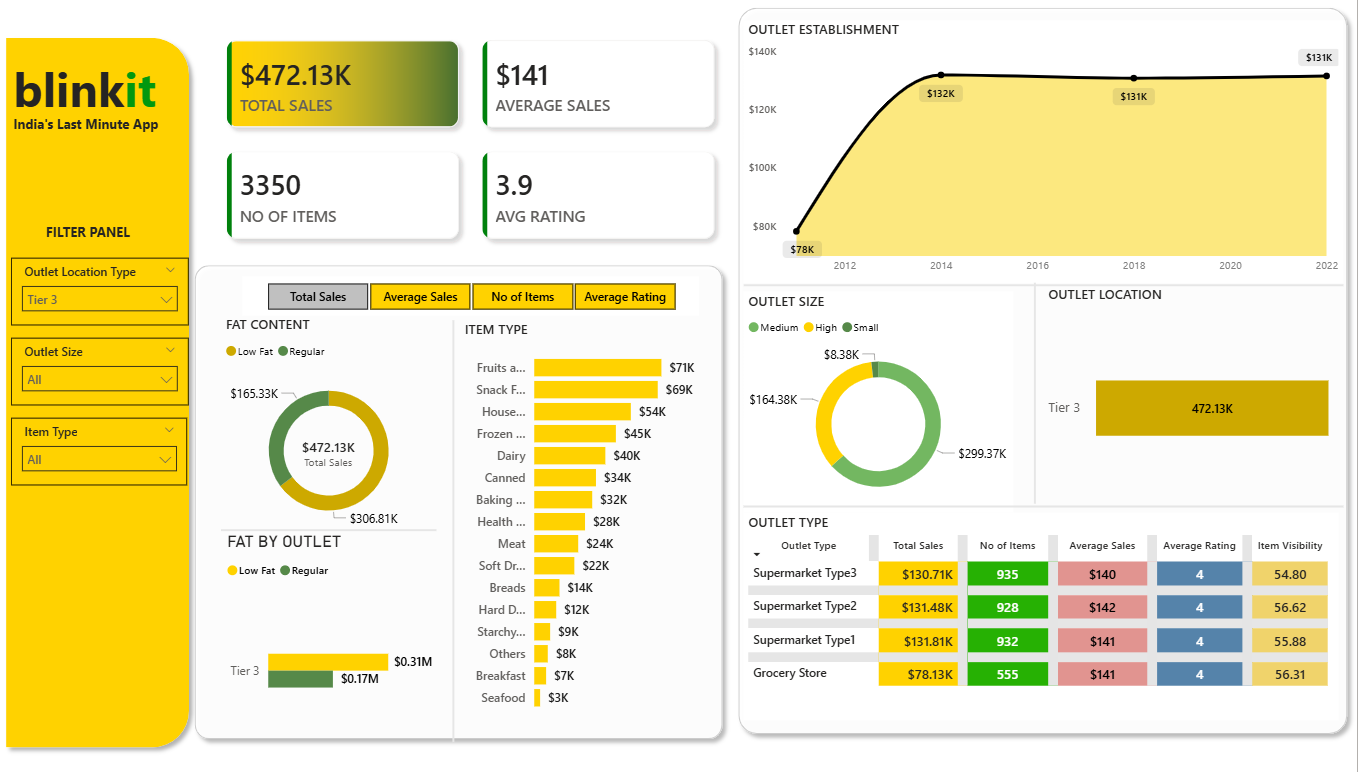

Layout of this report page (visuals, bound fields, positions):
{"tool":"powerbi","page":{"name":"Page 1","canvas":[1400,800],"ordinal":0},"visuals":[{"type":"shape","box":[16.5,30,204.1,739.9],"z":0},{"type":"textbox","box":[28.5,54,177.1,78],"z":1000},{"type":"textbox","box":[28.5,112.6,180.1,39],"z":2000},{"type":"cardVisual","fields":{"Data":["BlinkIT Grocery Data.Total Sales","BlinkIT Grocery Data.Average Sales","BlinkIT Grocery Data.No of Items","BlinkIT Grocery Data.Average Rating"]},"box":[221.3,12.7,554.5,260.7],"z":3000},{"type":"shape","box":[208.5,262.2,554.9,500],"z":4000},{"type":"donutChart","title":"FAT CONTENT","fields":{"Y":["BlinkIT Grocery Data.Total Sales"],"Category":["BlinkIT Grocery Data.Item Fat Content"]},"box":[243.9,322,219.5,230.5],"z":5000},{"type":"slicer","fields":{"Values":["Metrics.Metrics"]},"box":[265.9,281.7,464.6,40.2],"z":6000},{"type":"cardVisual","fields":{"Data":["BlinkIT Grocery Data.Total Sales"]},"box":[296.3,425.6,114.6,72],"z":7000},{"type":"clusteredBarChart","title":"FAT BY OUTLET","fields":{"Y":["BlinkIT Grocery Data.Total Sales"],"Category":["BlinkIT Grocery Data.Outlet Location Type"],"Series":["BlinkIT Grocery Data.Item Fat Content"]},"box":[245.5,541.8,218.8,228.9],"z":8000},{"type":"FlowVisual_C29F1DCC_81F5_4973_94AD_0517D44CC06A","box":[786,30,555,243],"z":9000},{"type":"shape","box":[243.9,523.2,219.5,35.4],"z":10000},{"type":"shape","box":[463.4,326.8,35.4,429.3],"z":11000},{"type":"barChart","title":"ITEM TYPE","fields":{"Y":["BlinkIT Grocery Data.Total Sales"],"Category":["BlinkIT Grocery Data.Item Type"]},"box":[486.6,326.8,253.7,407.3],"z":12000},{"type":"shape","box":[761.8,0,637.2,756.7],"z":13000},{"type":"lineChart","title":"OUTLET ESTABLISHMENT","fields":{"Category":["BlinkIT Grocery Data.Outlet Establishment Year"],"Y":["BlinkIT Grocery Data.Total Sales"]},"box":[775.8,21.6,610.5,267.1],"z":14000},{"type":"shape","box":[775.8,273.4,610.5,35.6],"z":15000},{"type":"donutChart","title":"OUTLET SIZE","fields":{"Y":["BlinkIT Grocery Data.Total Sales"],"Category":["BlinkIT Grocery Data.Outlet Size"]},"box":[775.8,297.6,274.7,225.1],"z":16000},{"type":"funnel","title":"OUTLET LOCATION","fields":{"Y":["Sum(BlinkIT Grocery Data.Sales)"],"Category":["BlinkIT Grocery Data.Outlet Location Type"]},"box":[1081,291.2,300.1,231.5],"z":17000},{"type":"shape","box":[775.8,498.5,610.5,35.6],"z":18000},{"type":"shape","box":[1050.6,288.2,43.5,225.1],"z":19000},{"type":"pivotTable","title":"OUTLET TYPE","fields":{"Rows":["BlinkIT Grocery Data.Outlet Type"],"Values":["BlinkIT Grocery Data.Total Sales","BlinkIT Grocery Data.No of Items","BlinkIT Grocery Data.Average Sales","BlinkIT Grocery Data.Average Rating","Sum(BlinkIT Grocery Data.Item Visibility)"]},"box":[775.8,522.7,605.4,211.1],"z":20000},{"type":"slicer","fields":{"Values":["BlinkIT Grocery Data.Outlet Location Type"]},"box":[30.5,263.3,180.6,68.7],"z":21000},{"type":"slicer","fields":{"Values":["BlinkIT Grocery Data.Outlet Size"]},"box":[30.5,344.7,180.6,68.7],"z":22000},{"type":"slicer","fields":{"Values":["BlinkIT Grocery Data.Item Type"]},"box":[30.5,426.1,179.3,68.7],"z":23000},{"type":"textbox","box":[61,222.6,117,30.5],"z":24000}]}

Visuals, with their boxes in screenshot pixels (x1, y1, x2, y2), scaled from the page's 1400x800 canvas onto the 1358x772 screenshot:
shape: [left=16, top=29, right=214, bottom=743]
textbox: [left=28, top=52, right=199, bottom=127]
textbox: [left=28, top=109, right=202, bottom=146]
cardVisual - BlinkIT Grocery Data.Total Sales x BlinkIT Grocery Data.Average Sales: [left=215, top=12, right=753, bottom=264]
shape: [left=202, top=253, right=740, bottom=736]
"FAT CONTENT" donutChart: [left=237, top=311, right=449, bottom=533]
slicer - Metrics.Metrics: [left=258, top=272, right=709, bottom=311]
cardVisual - BlinkIT Grocery Data.Total Sales: [left=287, top=411, right=399, bottom=480]
"FAT BY OUTLET" clusteredBarChart: [left=238, top=523, right=450, bottom=744]
FlowVisual_C29F1DCC_81F5_4973_94AD_0517D44CC06A: [left=762, top=29, right=1301, bottom=263]
shape: [left=237, top=505, right=449, bottom=539]
shape: [left=449, top=315, right=484, bottom=730]
"ITEM TYPE" barChart: [left=472, top=315, right=718, bottom=708]
shape: [left=739, top=0, right=1357, bottom=730]
"OUTLET ESTABLISHMENT" lineChart: [left=753, top=21, right=1345, bottom=279]
shape: [left=753, top=264, right=1345, bottom=298]
"OUTLET SIZE" donutChart: [left=753, top=287, right=1019, bottom=504]
"OUTLET LOCATION" funnel: [left=1049, top=281, right=1340, bottom=504]
shape: [left=753, top=481, right=1345, bottom=515]
shape: [left=1019, top=278, right=1061, bottom=495]
"OUTLET TYPE" pivotTable: [left=753, top=504, right=1340, bottom=708]
slicer - BlinkIT Grocery Data.Outlet Location Type: [left=30, top=254, right=205, bottom=320]
slicer - BlinkIT Grocery Data.Outlet Size: [left=30, top=333, right=205, bottom=399]
slicer - BlinkIT Grocery Data.Item Type: [left=30, top=411, right=204, bottom=477]
textbox: [left=59, top=215, right=173, bottom=244]
